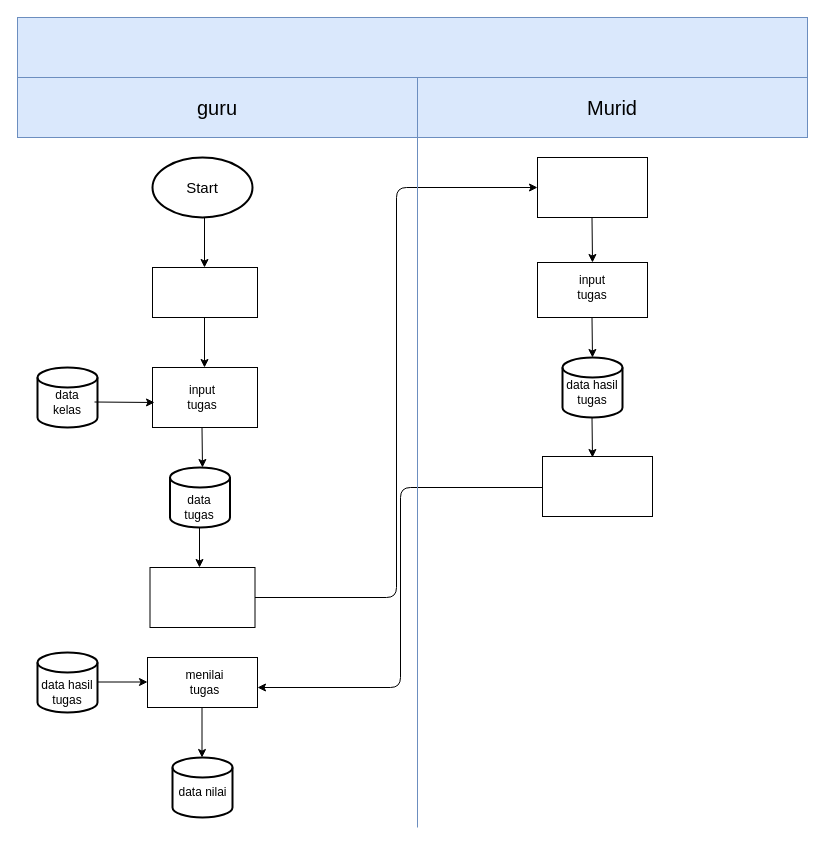
Some shapes in this 825 by 846 pixel diagram are drawn without their labels. The centre of each missing label's shape, as x and y in pixels:
flowchart usulan: point 412,47
membuat tugas: point 205,292
mengerjakan tugas: point 592,187
notifikasi tugas: point 202,597
notifikasi tugas selesai: point 597,486
